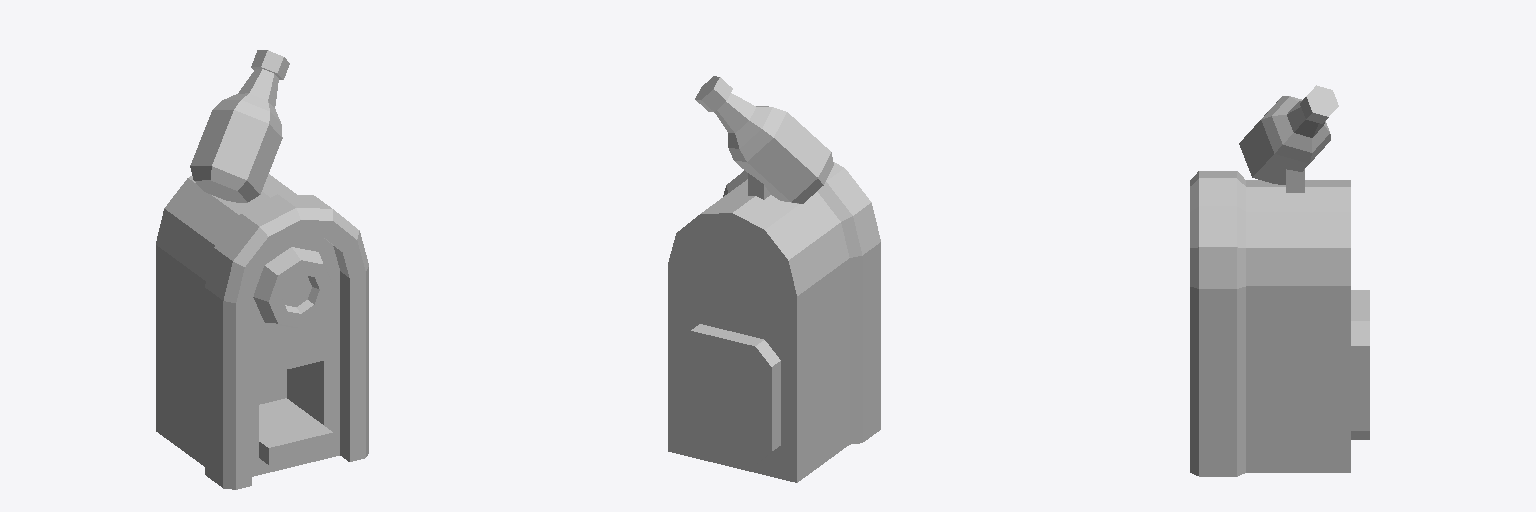
The model's file is bottle-return.obj.
The picture shows the model from 3 angles: view 1: azimuth 30°, elevation 25°; view 2: azimuth 150°, elevation 25°; view 3: azimuth 270°, elevation 25°; orthographic projection.
Parts seen in each view (by area): view 1: bottle-return; view 2: bottle-return; view 3: bottle-return.
Boxes of the visible parts, x1=… form: bottle-return: x1=156, y1=50, x2=368, y2=489; bottle-return: x1=668, y1=76, x2=880, y2=482; bottle-return: x1=1190, y1=85, x2=1369, y2=476.
Size of the model in its own units: 0.45 by 1.09 by 0.481.